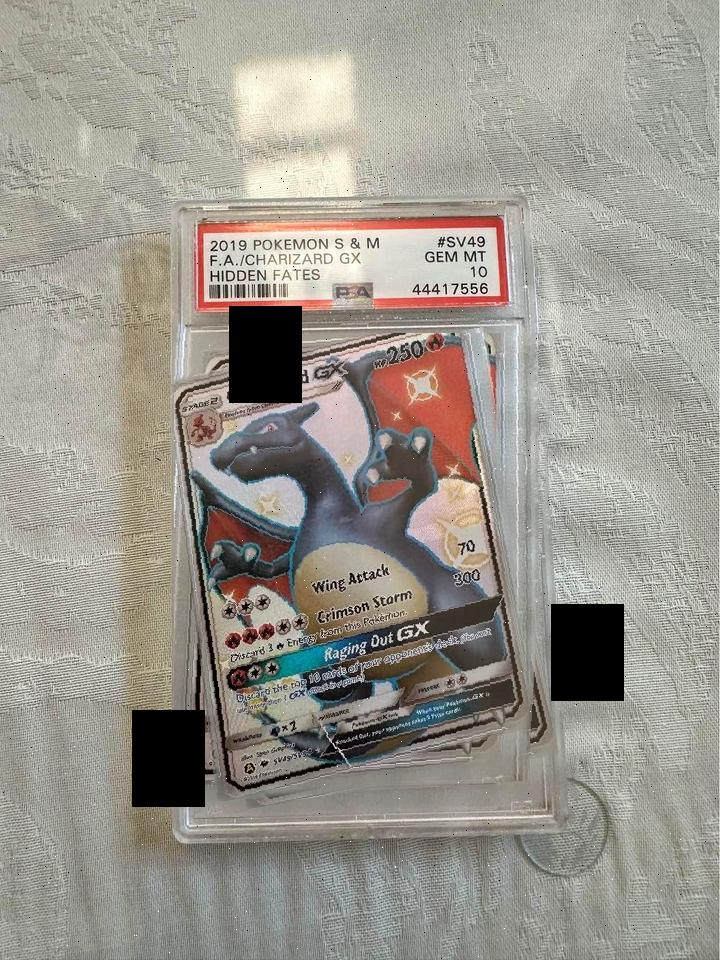card: (174, 333, 533, 801)
